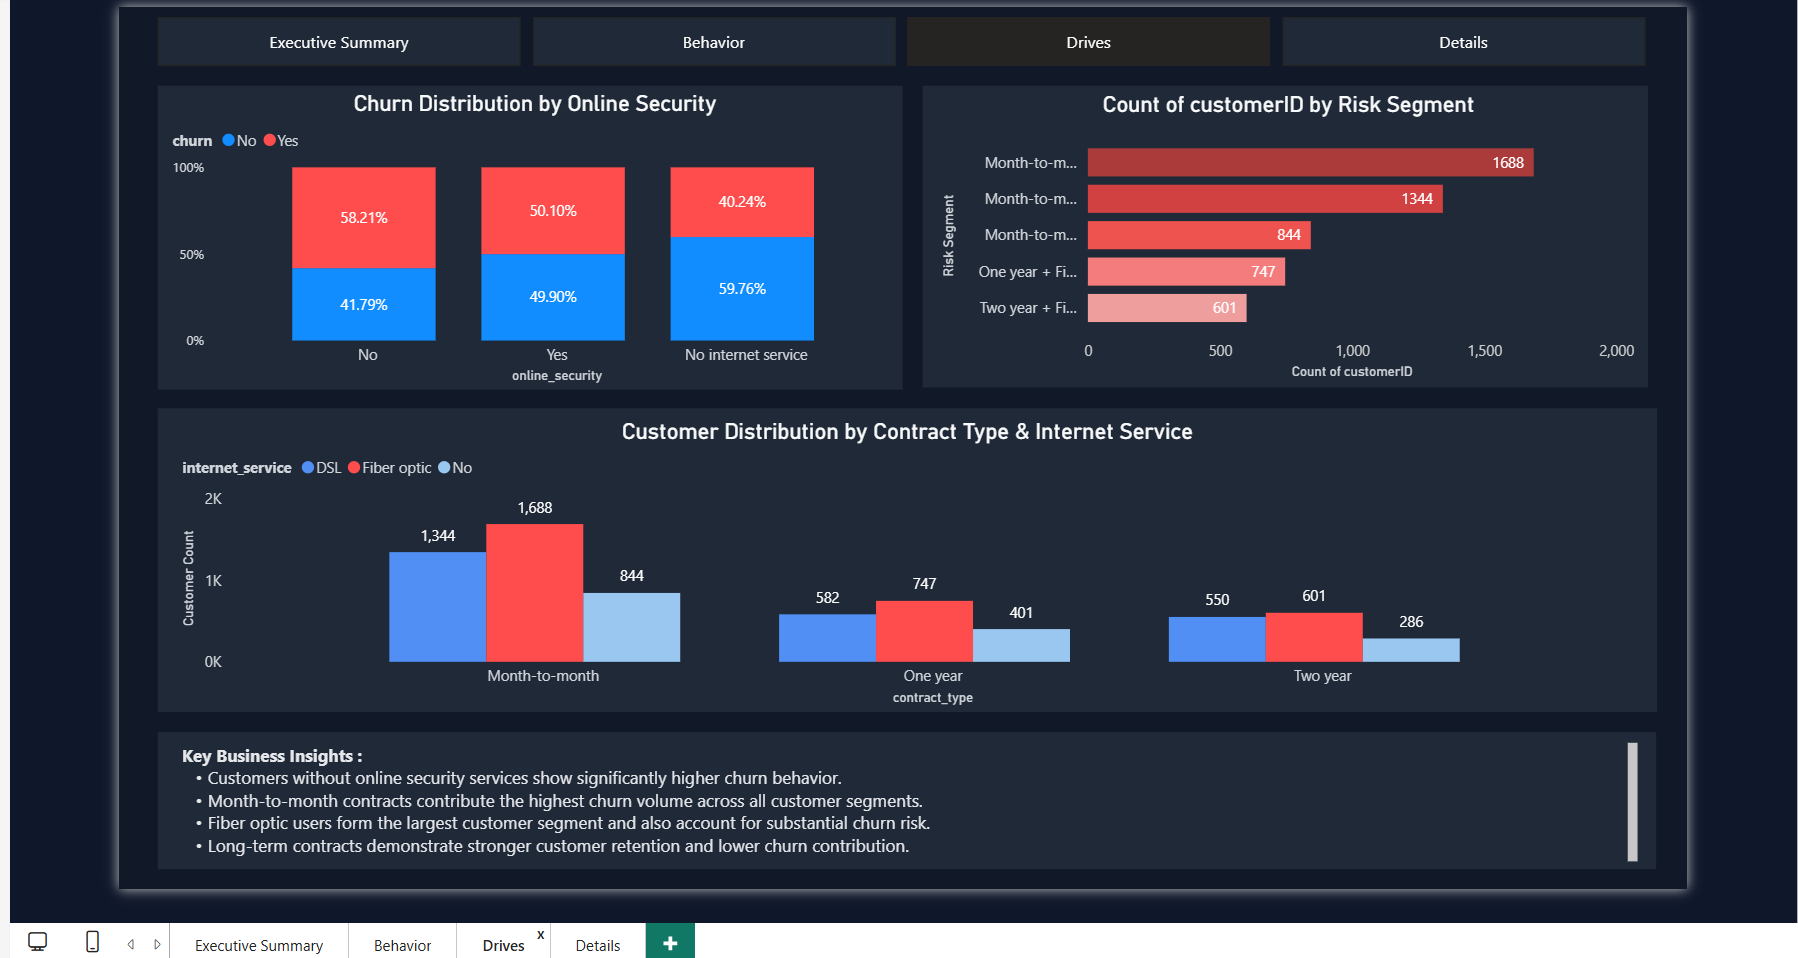

What the dashboard file says about the page in this screenshot:
{"tool":"powerbi","page":{"name":"Drives","canvas":[1280,720],"ordinal":2},"visuals":[{"type":"clusteredColumnChart","title":"Customer Distribution by Contract Type & Internet Service","fields":{"Category":["churn_project dim_contract.contract_type"],"Series":["churn_project dim_services.internet_service"],"Y":["CountNonNull(churn_project fact_churn.customerID)"]},"box":[32,328,1224,248],"z":0},{"type":"hundredPercentStackedColumnChart","title":"Churn Distribution by Online Security ","fields":{"Category":["churn_project dim_services.online_security"],"Y":["CountNonNull(churn_project fact_churn.churn)"],"Series":["churn_project fact_churn.churn"]},"box":[32,64,608,248],"z":1000},{"type":"textbox","box":[32,592,1223,112],"z":2000},{"type":"pageNavigator","box":[32,8,1216,40],"z":3000},{"type":"clusteredBarChart","fields":{"Category":["churn_project customers.Risk Segment"],"Y":["CountNonNull(churn_project customers.customerID)"]},"box":[656,64,592,246],"z":4000}]}

Visuals, with their boxes on the page's 1280x720 design canvas (x1, y1, x2, y2). These are canvas units, not pixel positions in the 1798x958 screenshot, which may show the page scaled, cropped or inside an application window:
"Customer Distribution by Contract Type & Internet Service" clusteredColumnChart: 32/328/1256/576
"Churn Distribution by Online Security " hundredPercentStackedColumnChart: 32/64/640/312
textbox: 32/592/1255/704
pageNavigator: 32/8/1248/48
clusteredBarChart - churn_project customers.Risk Segment x CountNonNull(churn_project customers.customerID): 656/64/1248/310
